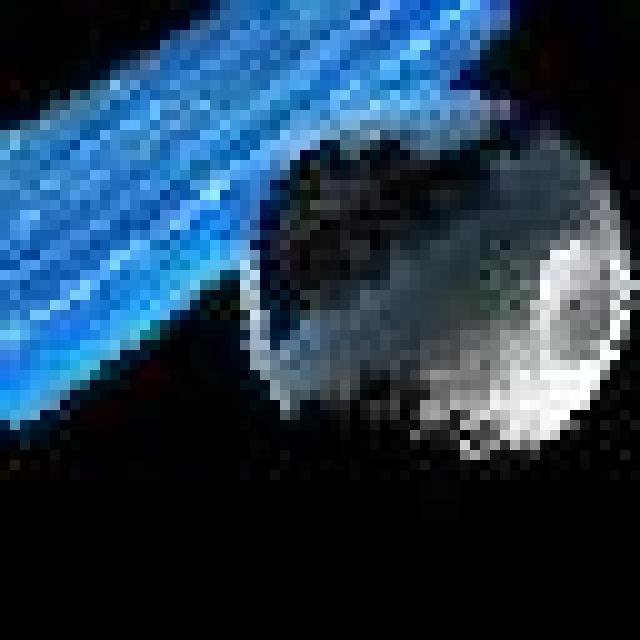Death Star: (254, 93, 620, 480)
